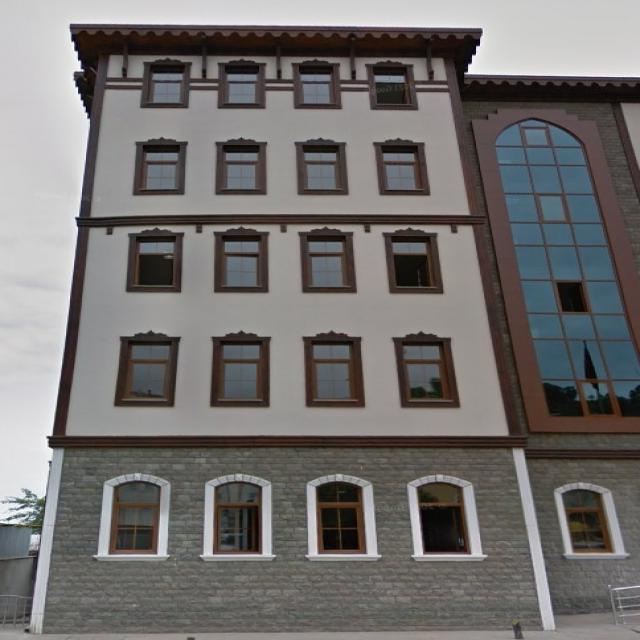Building: (32, 24, 640, 635)
